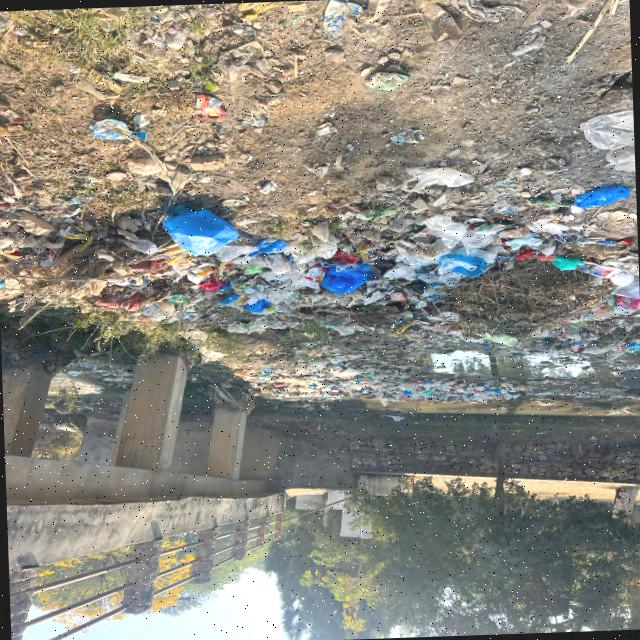garbage: (0, 178, 637, 369), (250, 361, 516, 411)
